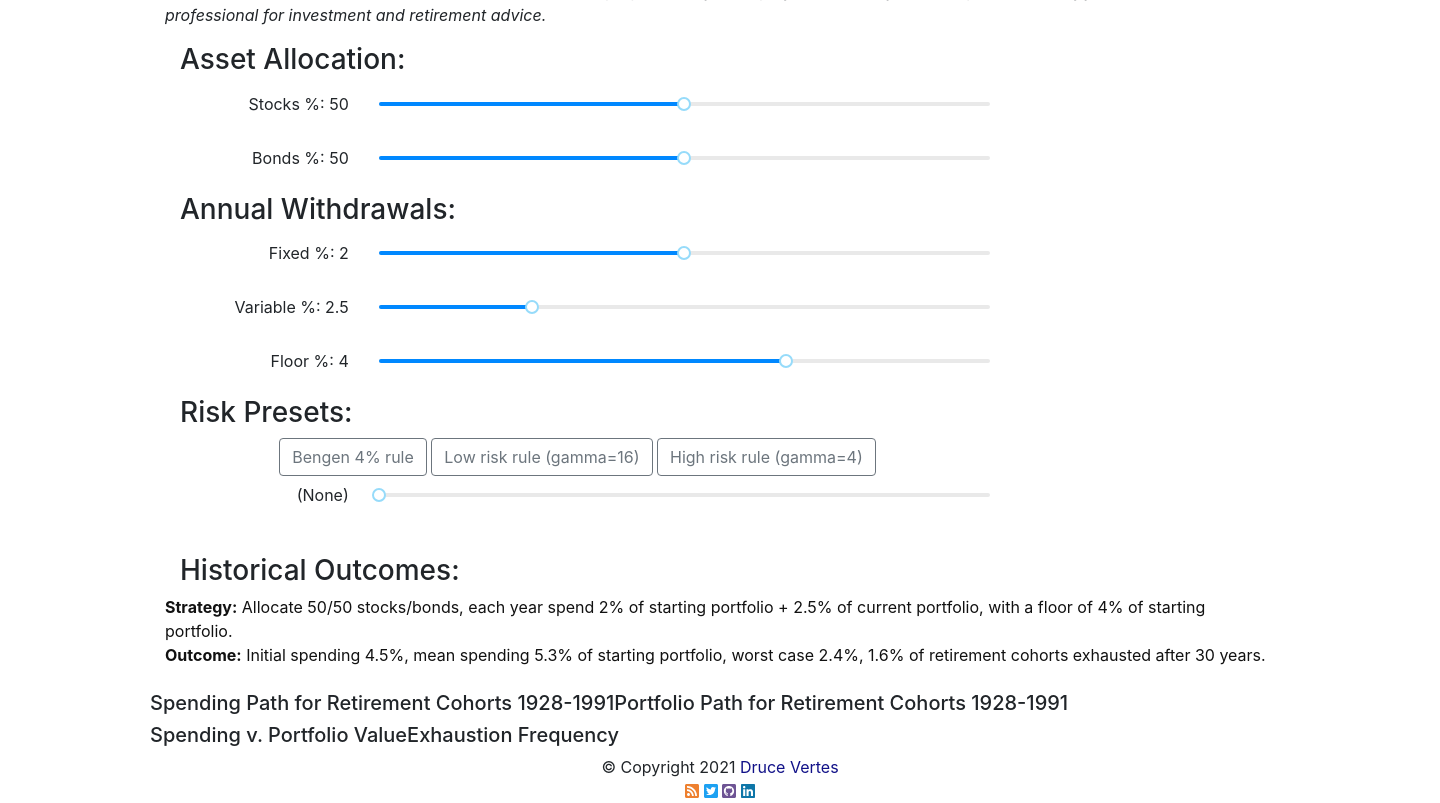
Test: Click Button 3 (low risk aversion)
(page scrolled)
Click the button with test id "button3": [542, 457] box x1=431 y1=438 x2=652 y2=476
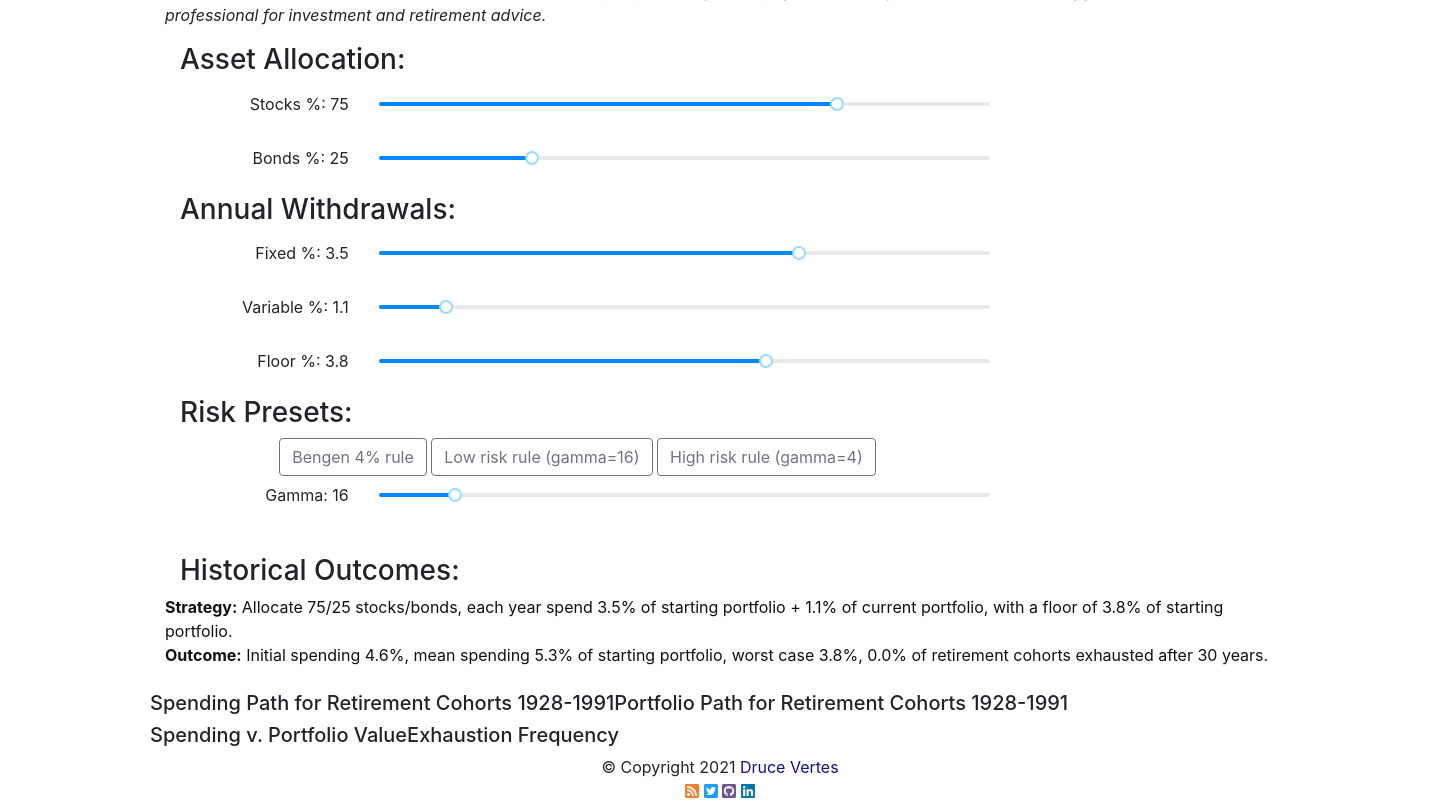
Now the label with test id "stock_alloc_pct_label" reads "Stocks %: 75", box x1=250 y1=94 x2=349 y2=114
Now the label with test id "bond_alloc_pct_label" reads "Bonds %: 25", box x1=252 y1=148 x2=349 y2=168
Now the label with test id "withdrawal_fixed_label" reads "Fixed %: 3.5", box x1=255 y1=243 x2=349 y2=263
